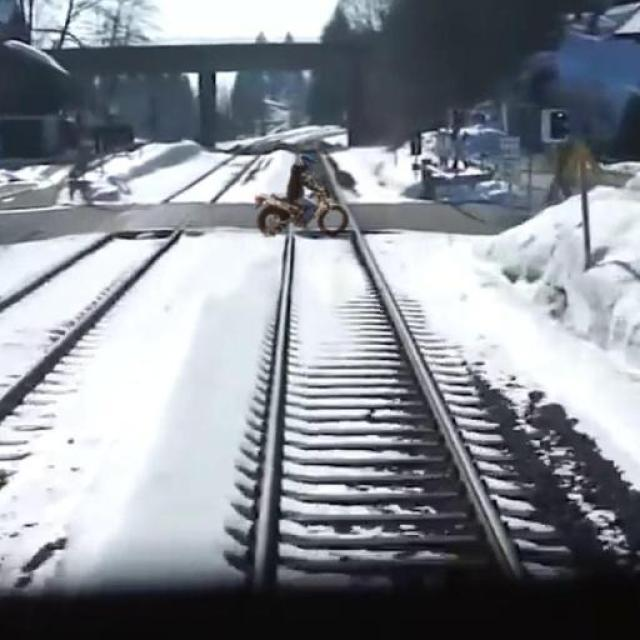vehicle: (242, 181, 362, 238)
